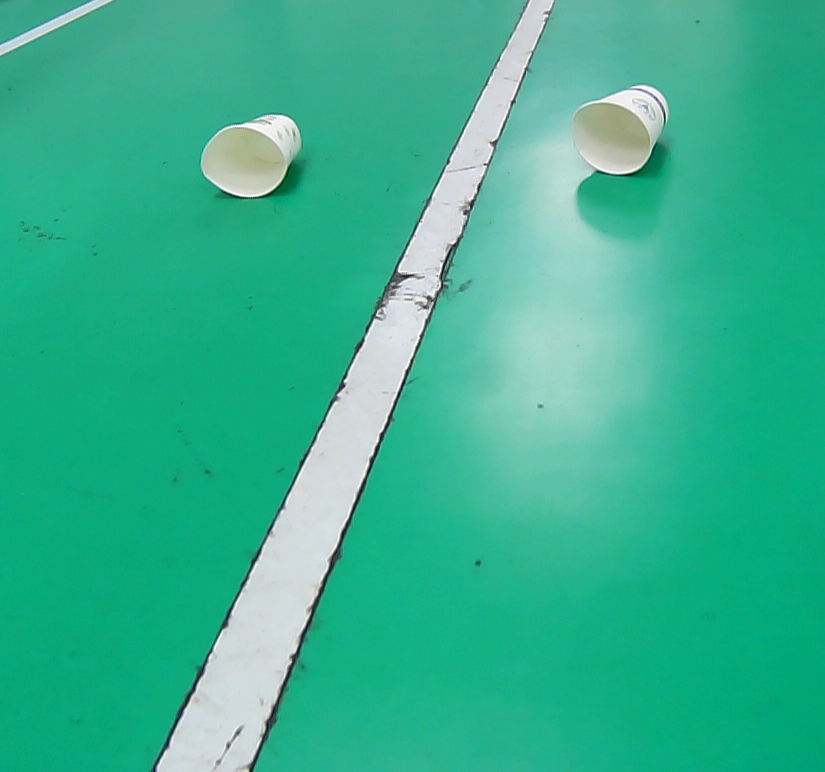papercup: (567, 83, 673, 179), (199, 111, 302, 202)
